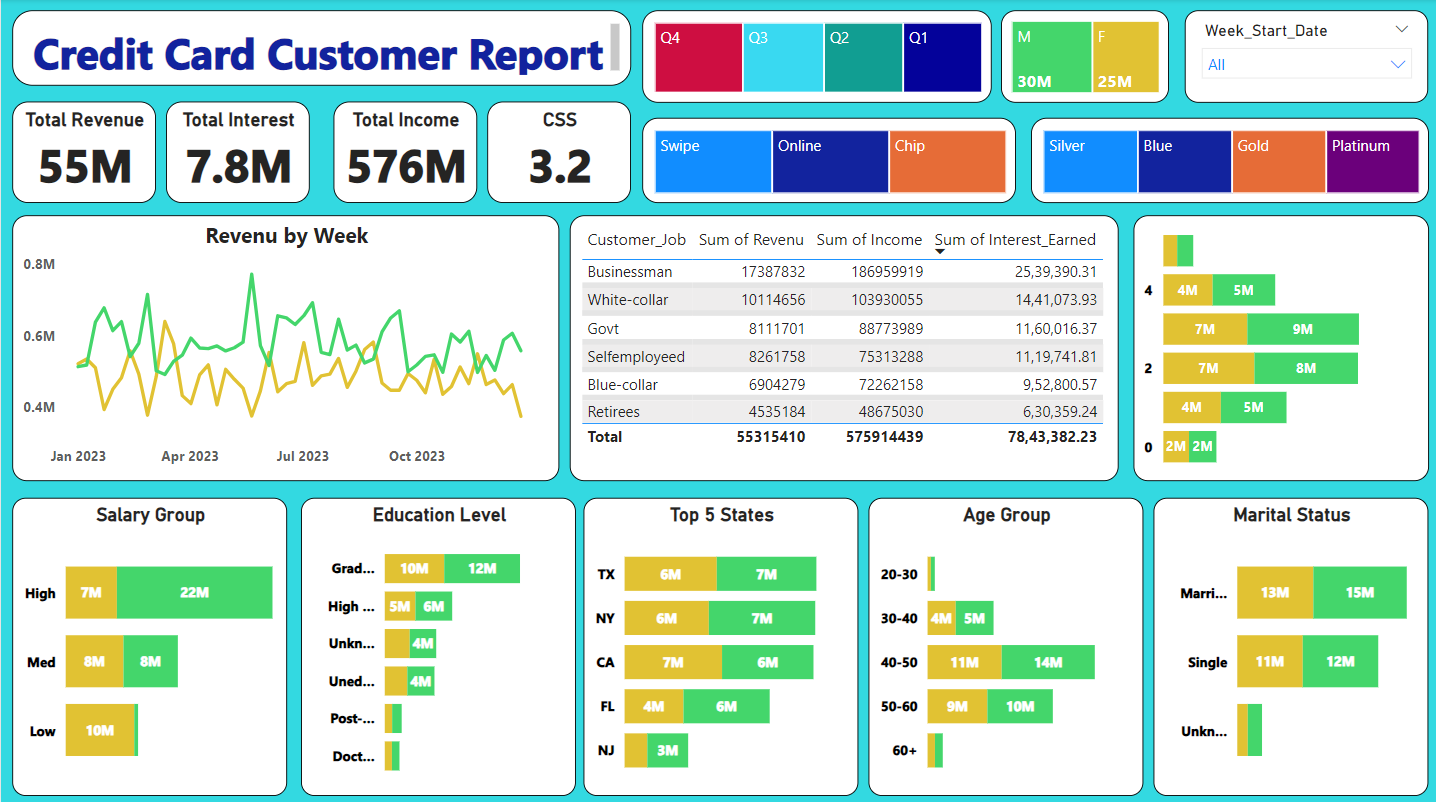

The dashboard page shown, as its layout file describes it:
{"tool":"powerbi","page":{"name":"Page 3","canvas":[1280,720],"ordinal":1},"visuals":[{"type":"textbox","box":[9.7,9.7,551.3,67.6],"z":0},{"type":"barChart","title":"Salary Group","fields":{"Y":["Sum(credit_card.Revenu)"],"Category":["customer.IncomeGroup"],"Series":["customer.Gender"]},"box":[9.7,444,245,265.4],"z":1000},{"type":"tableEx","fields":{"Values":["customer.Customer_Job","Sum(credit_card.Revenu)","Sum(customer.Income)","Sum(credit_card.Interest_Earned)"]},"box":[506.7,193,488.6,236.5],"z":2000},{"type":"card","title":"Total Revenue","fields":{"Values":["Sum(credit_card.Revenu)"]},"box":[9.7,91.7,127.9,90.5],"z":3000},{"type":"card","title":"Total Interest","fields":{"Values":["Sum(credit_card.Interest_Earned)"]},"box":[147.2,91.7,127.9,90.5],"z":4000},{"type":"card","title":"Total Income","fields":{"Values":["Sum(customer.Income)"]},"box":[295.6,91.7,127.9,90.5],"z":5000},{"type":"card","title":"CSS","fields":{"Values":["Avg(customer.Cust_Satisfaction_Score)"]},"box":[433.1,91.7,127.9,90.5],"z":6000},{"type":"slicer","fields":{"Values":["credit_card.Week_Start_Date"]},"box":[1054.4,9.7,217.2,82],"z":7000},{"type":"treemap","fields":{"Group":["credit_card.Qtr"],"Values":["Avg(credit_card.Client_Num)"]},"box":[570.6,9.7,311.3,82],"z":8000},{"type":"treemap","fields":{"Values":["Avg(credit_card.Client_Num)"],"Group":["credit_card.Card_Category"]},"box":[916.9,106.2,354.7,76],"z":11000},{"type":"lineChart","title":"Revenu by Week","fields":{"Y":["Sum(credit_card.Revenu)"],"Series":["customer.Gender"],"Category":["credit_card.Week_Start_Date.Variation.Date Hierarchy.Year","credit_card.Week_Start_Date.Variation.Date Hierarchy.Month","credit_card.Week_Start_Date.Variation.Date Hierarchy.Day"]},"box":[9.7,193,487.4,236.5],"z":11001},{"type":"treemap","fields":{"Group":["customer.Gender"],"Values":["Sum(credit_card.Revenu)"]},"box":[890.4,9.7,149.6,82],"z":11002},{"type":"barChart","title":"Age Group","fields":{"Y":["Sum(credit_card.Revenu)"],"Category":["customer.AgeGroup"],"Series":["customer.Gender"]},"box":[772.1,444,245,265.4],"z":11003},{"type":"barChart","title":"Education Level","fields":{"Y":["Sum(credit_card.Revenu)"],"Category":["customer.Education_Level"],"Series":["customer.Gender"]},"box":[266.6,444,245,265.4],"z":11004},{"type":"barChart","title":"Dependent Count","fields":{"Y":["Sum(credit_card.Revenu)"],"Category":["customer.Dependent_Count"],"Series":["customer.Gender"]},"box":[1008.6,193,263,236.5],"z":11005},{"type":"barChart","title":"Top 5 States","fields":{"Y":["Sum(credit_card.Revenu)"],"Category":["customer.state_cd"],"Series":["customer.Gender"]},"box":[518.8,444,245,265.4],"z":11006},{"type":"barChart","title":"Marital Status","fields":{"Y":["Sum(credit_card.Revenu)"],"Category":["customer.Marital_Status"],"Series":["customer.Gender"]},"box":[1026.7,444,244.9,265.4],"z":11007},{"type":"treemap","fields":{"Values":["Avg(credit_card.Client_Num)"],"Group":["credit_card.Use Chip"]},"box":[570.6,106.2,333,76],"z":11008}]}

Visuals, with their boxes in screenshot pixels (x1, y1, x2, y2), scaled from the page's 1280x720 canvas onto the 1436x802 screenshot:
textbox: 11:11:629:86
"Salary Group" barChart: 11:495:286:790
tableEx - customer.Customer_Job x Sum(credit_card.Revenu): 568:215:1117:478
"Total Revenue" card: 11:102:154:203
"Total Interest" card: 165:102:309:203
"Total Income" card: 332:102:475:203
"CSS" card: 486:102:629:203
slicer - credit_card.Week_Start_Date: 1183:11:1427:102
treemap - credit_card.Qtr x Avg(credit_card.Client_Num): 640:11:989:102
treemap - Avg(credit_card.Client_Num) x credit_card.Card_Category: 1029:118:1427:203
"Revenu by Week" lineChart: 11:215:558:478
treemap - customer.Gender x Sum(credit_card.Revenu): 999:11:1167:102
"Age Group" barChart: 866:495:1141:790
"Education Level" barChart: 299:495:574:790
"Dependent Count" barChart: 1132:215:1427:478
"Top 5 States" barChart: 582:495:857:790
"Marital Status" barChart: 1152:495:1427:790
treemap - Avg(credit_card.Client_Num) x credit_card.Use Chip: 640:118:1014:203
